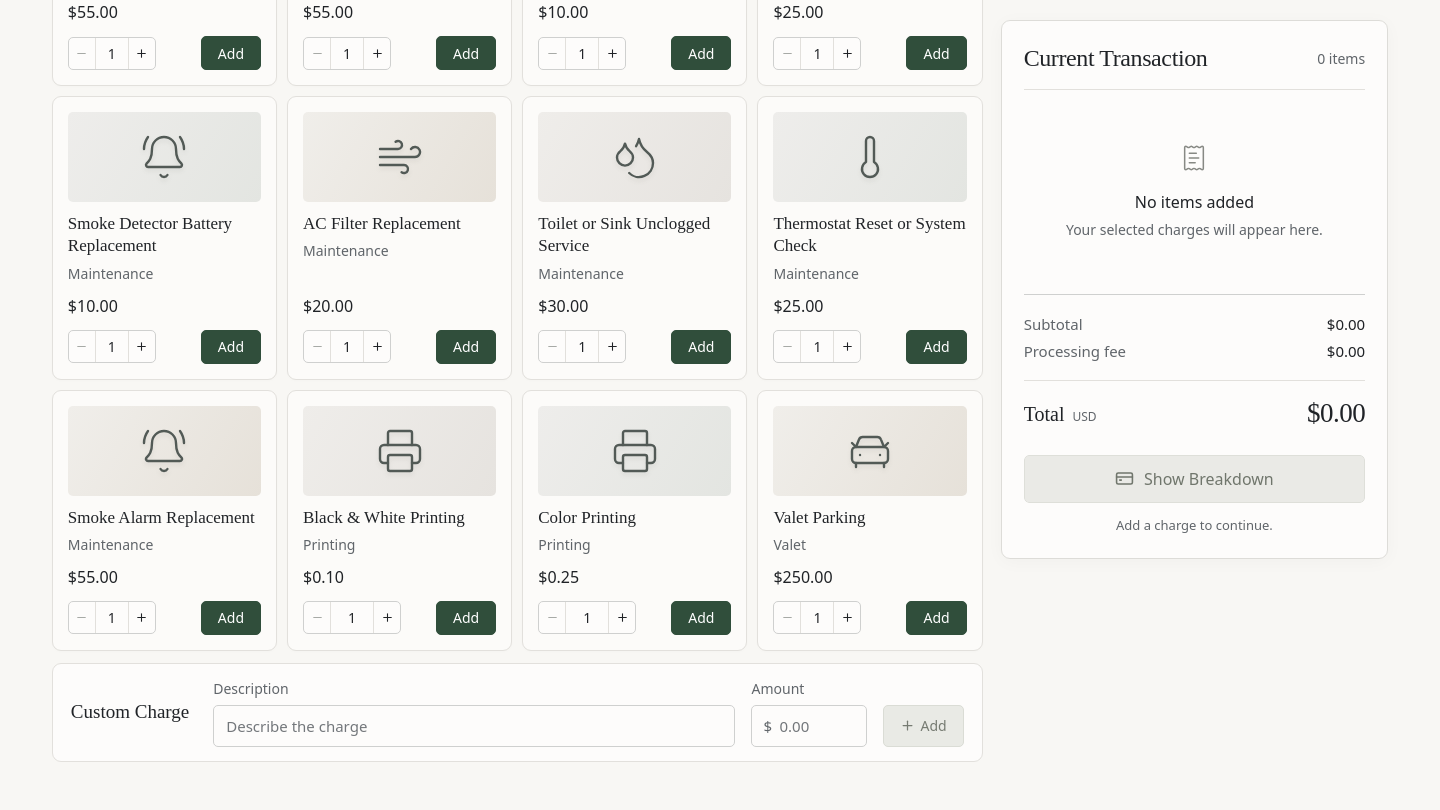
redesigned payment controls › keeps the untouched and emptied cart neutral, with no minimum sweep
(page scrolled)
Expected: the text "Add a charge to continue." is shown, [1116, 516, 1273, 534]
Expected: the text "Minimum payment is $0.50." is not shown
Click the button with aria-label "Add Black & White Printing".
click(466, 618)  # box [436, 601, 496, 635]
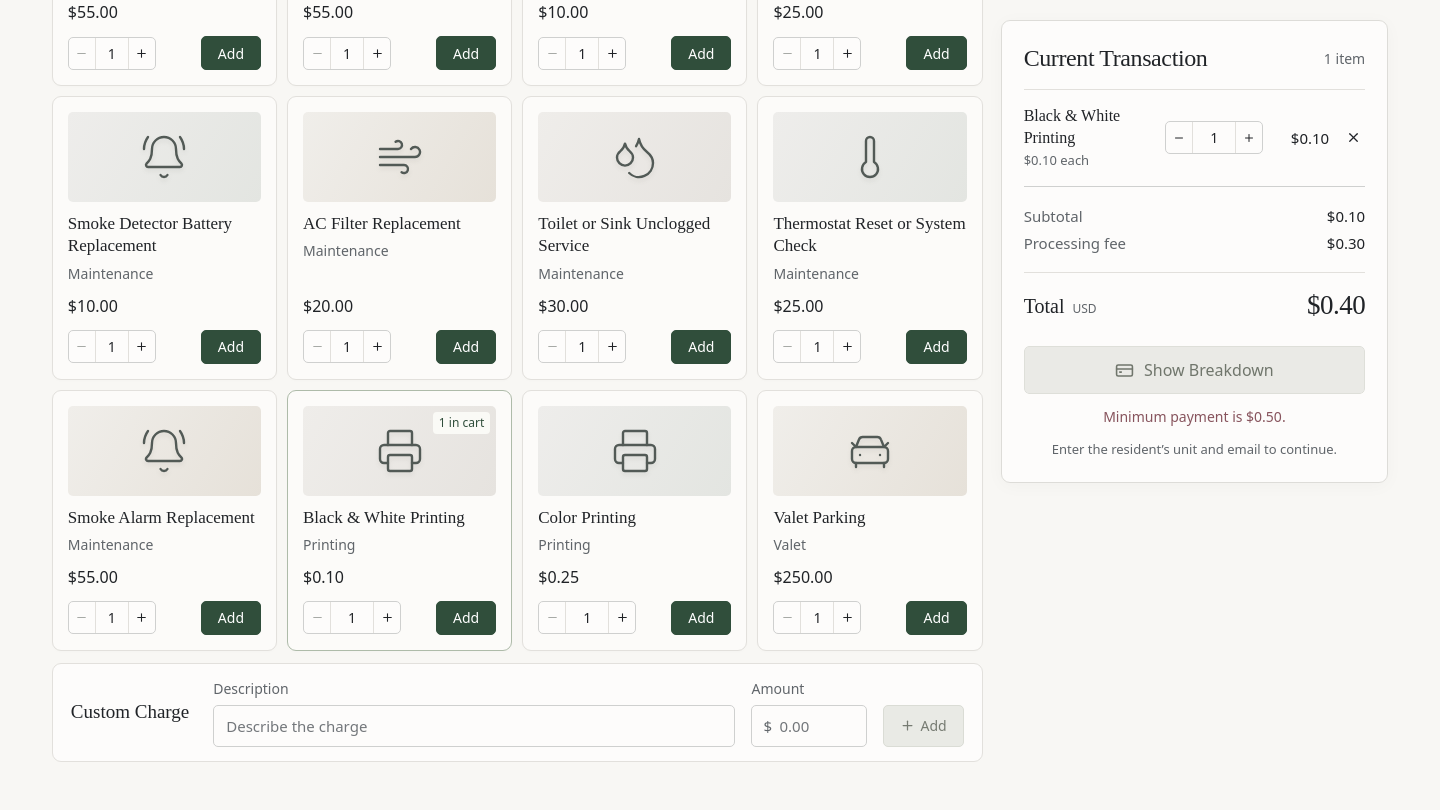
Expected: the element showing "Show Breakdown" is shown, [1024, 347, 1365, 395]
Click the button named "Remove Black & White Printing".
click(1353, 138)  # box [1341, 122, 1365, 154]
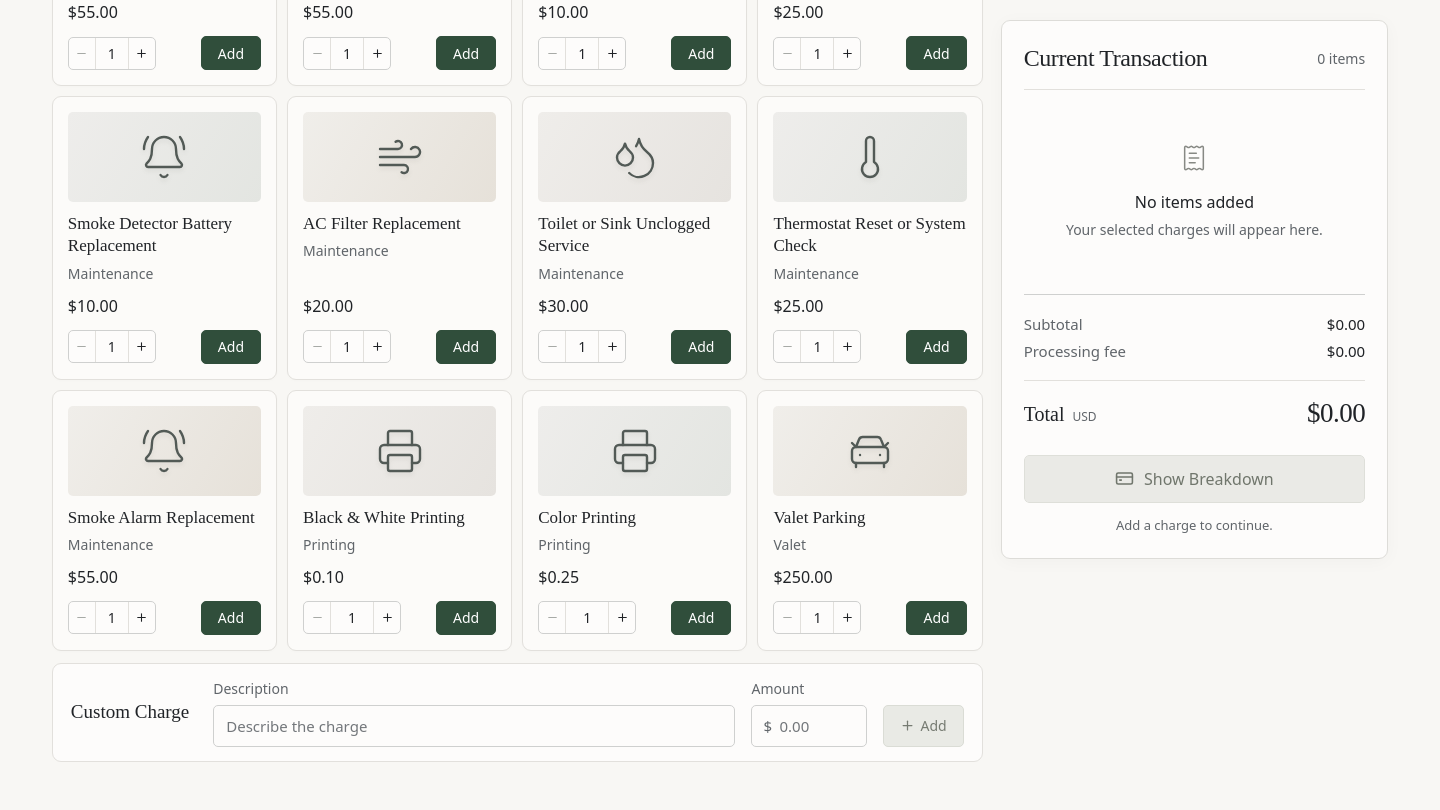
Expected: the text "Add a charge to continue." is shown, [1116, 516, 1273, 534]
